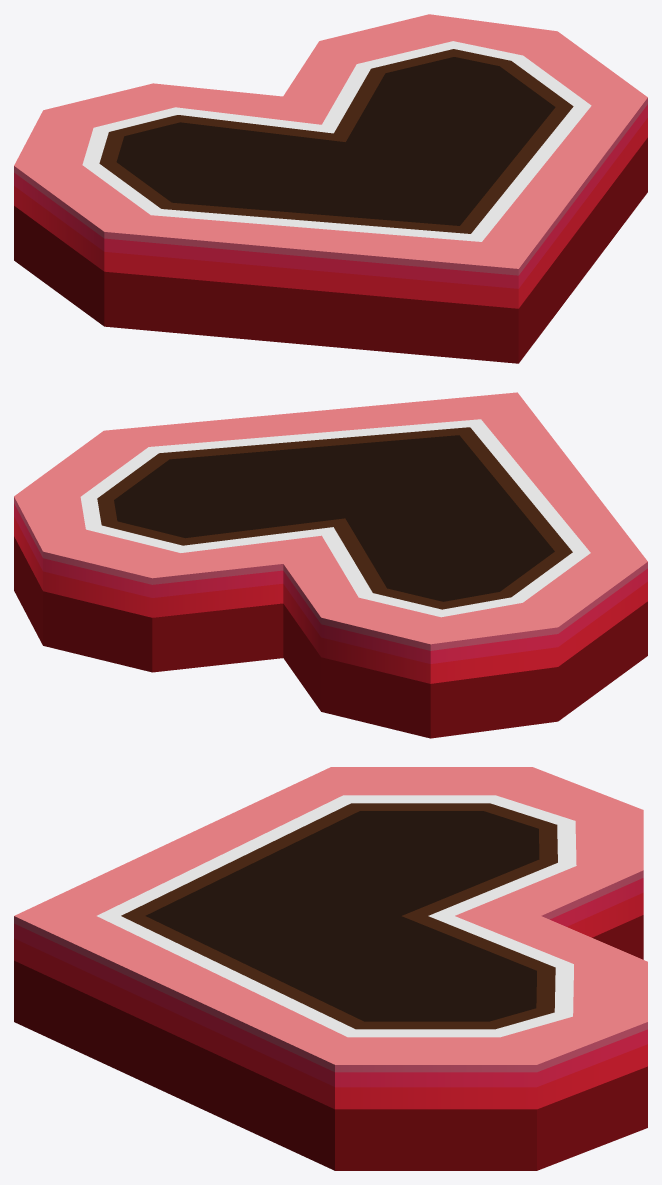
File: Heart1-1.fbx
3 views of the same model, one above another, from view 1: azimuth 30°, elevation 25°; view 2: azimuth 150°, elevation 25°; view 3: azimuth 270°, elevation 25° (orthographic). The views are drawn at different scales.
Parts seen in each view (by area): view 1: Heart1-1; view 2: Heart1-1; view 3: Heart1-1.
Boxes of the visible parts, x1,y1,x2,y2 form: Heart1-1: (14, 14, 647, 363); Heart1-1: (14, 392, 647, 738); Heart1-1: (14, 767, 647, 1170).
Bounding box in the file's own units: 0.4575 × 0.076 × 0.4116.
